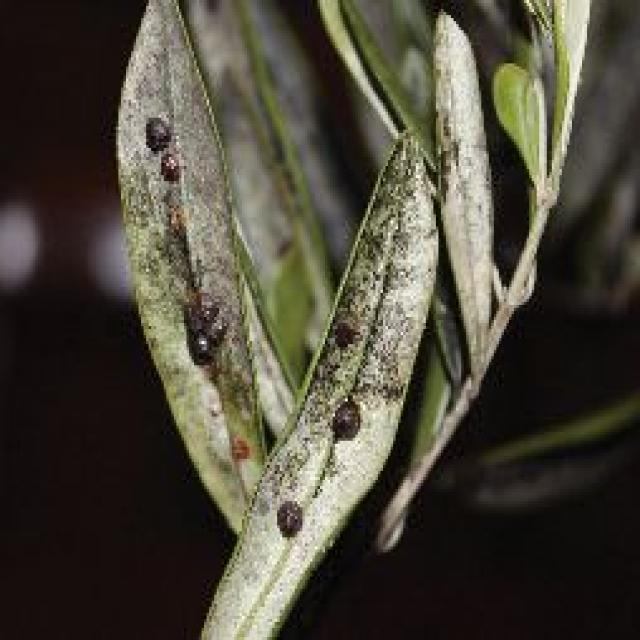BlackScale: (214, 145, 436, 637), (128, 0, 264, 537)
